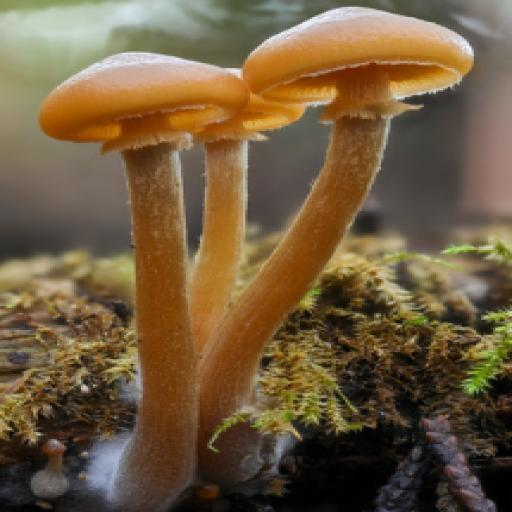Funeral Bell: (36, 4, 478, 505)
